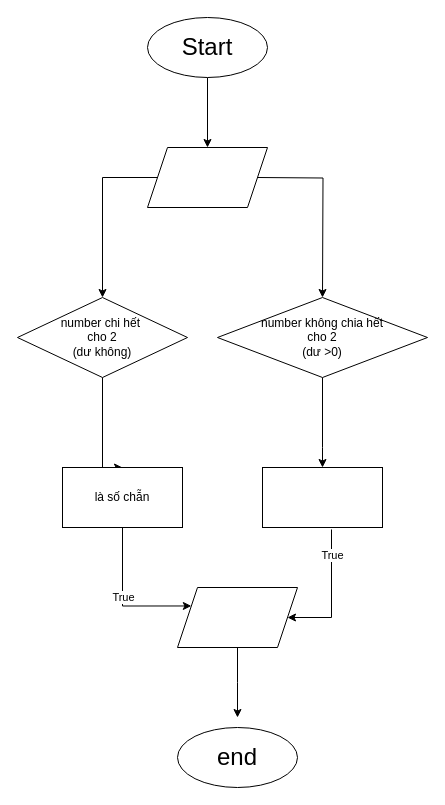
Image size: 445x805. Some labels were removed from this diagram. Each missing label, with the box of its shape:
hợp lệ: (176, 586, 298, 648)
là số lẻ: (262, 466, 382, 528)
nhập number: (146, 146, 268, 208)
